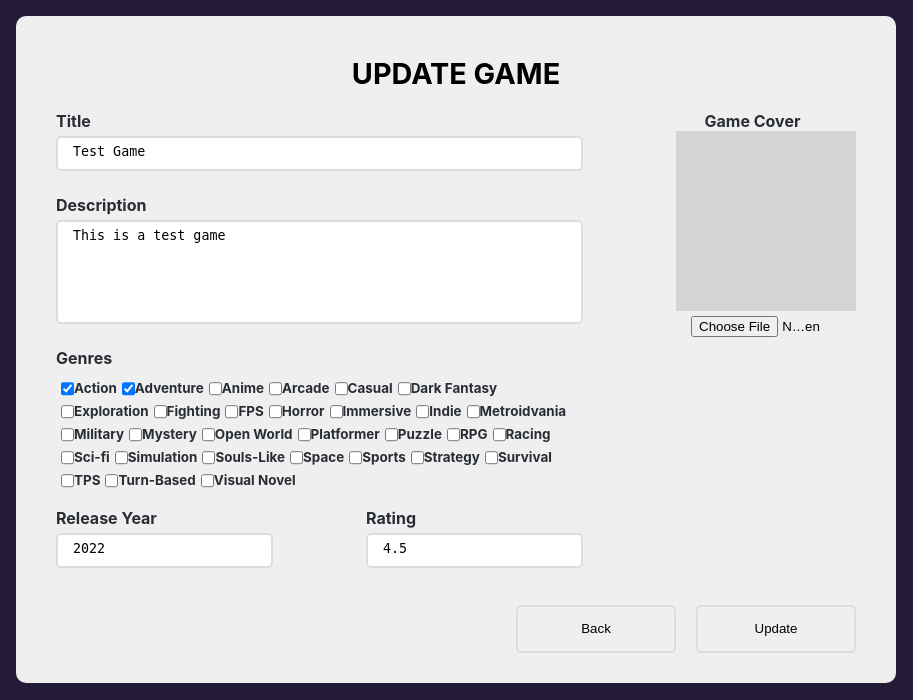
Scenario: UpdateGame component › validateReleaseYear function
Clear the text box labelled "Release Year" at [164, 550], box x1=56 y1=533 x2=273 y2=568
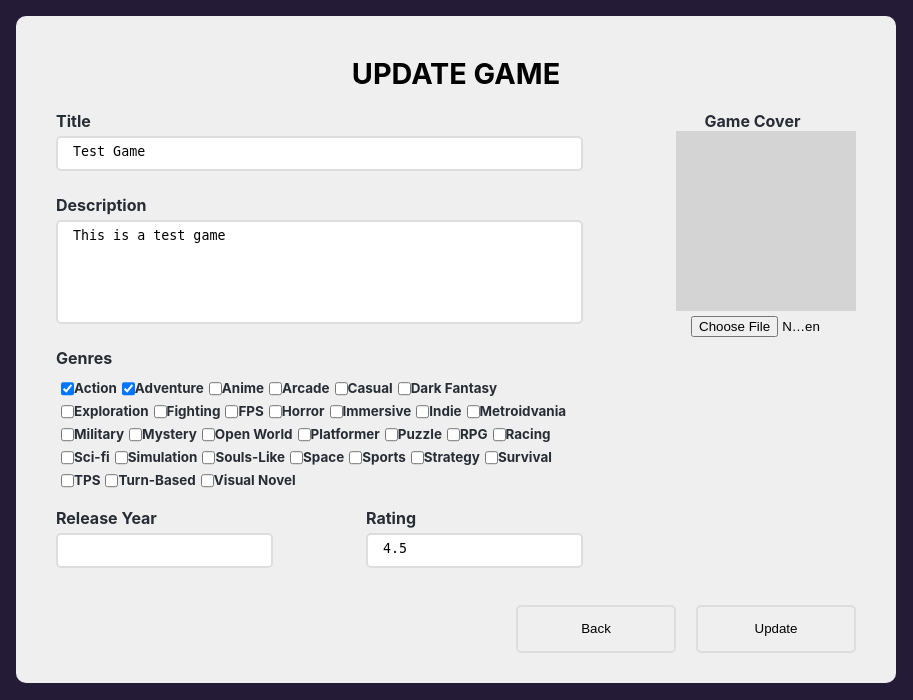
Leave the text box labelled "Release Year", box x1=56 y1=533 x2=273 y2=568
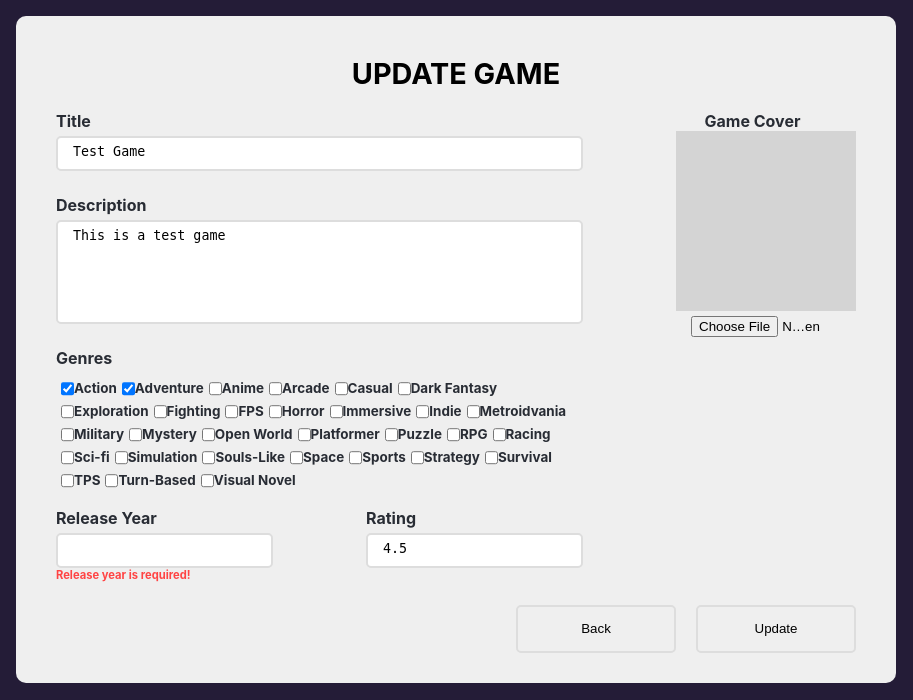
Now the text "Release year is required!" is shown, box x1=56 y1=568 x2=190 y2=584
Type "abc" into the text box labelled "Release Year".
click(164, 550); type("abc")  # box x1=56 y1=533 x2=273 y2=568
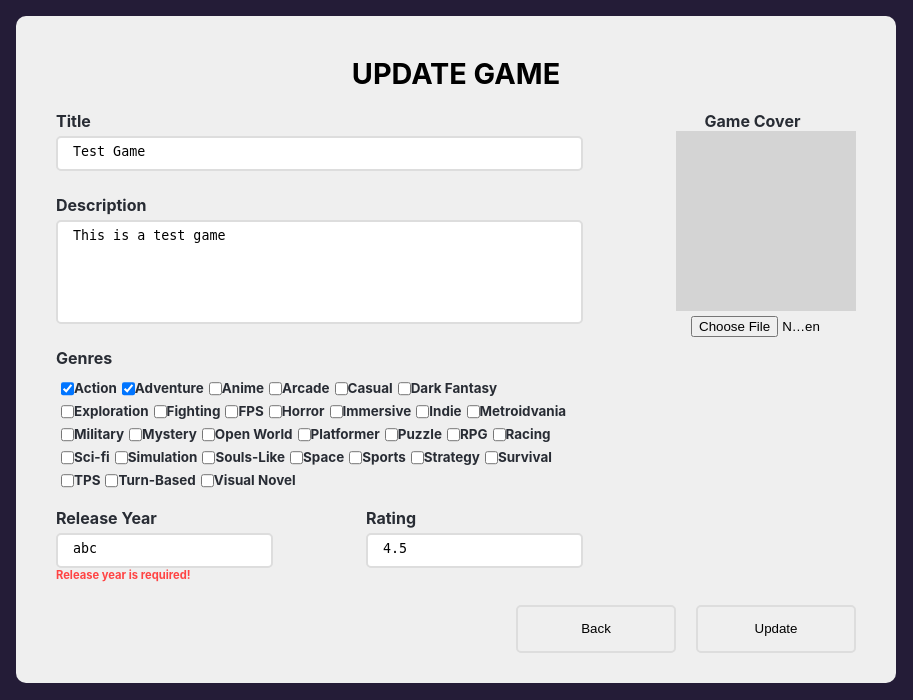
Leave the text box labelled "Release Year", box x1=56 y1=533 x2=273 y2=568
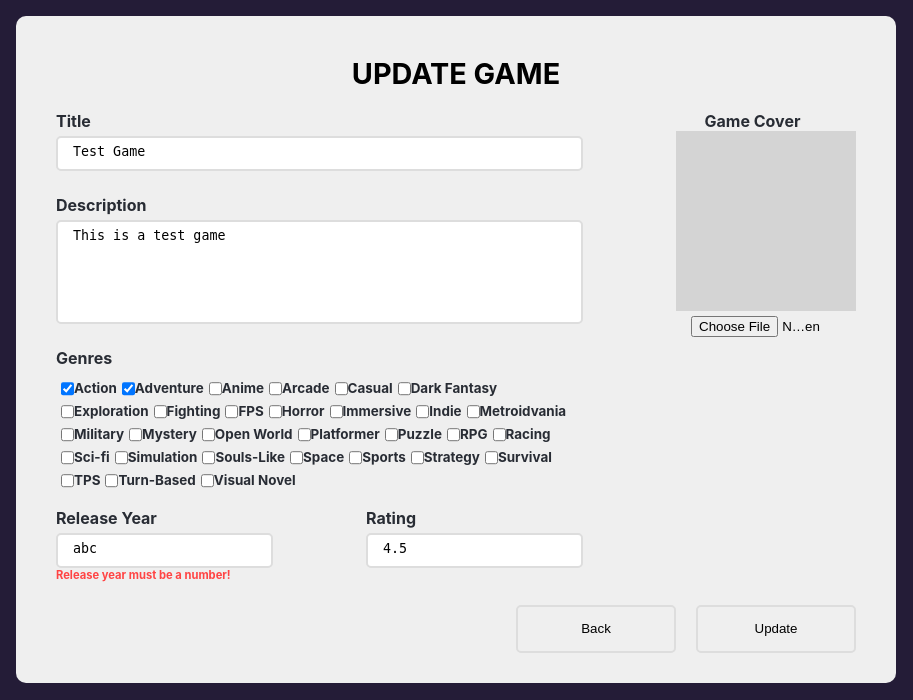
Now the text "Release year must be a number!" is shown, box x1=56 y1=568 x2=231 y2=584
